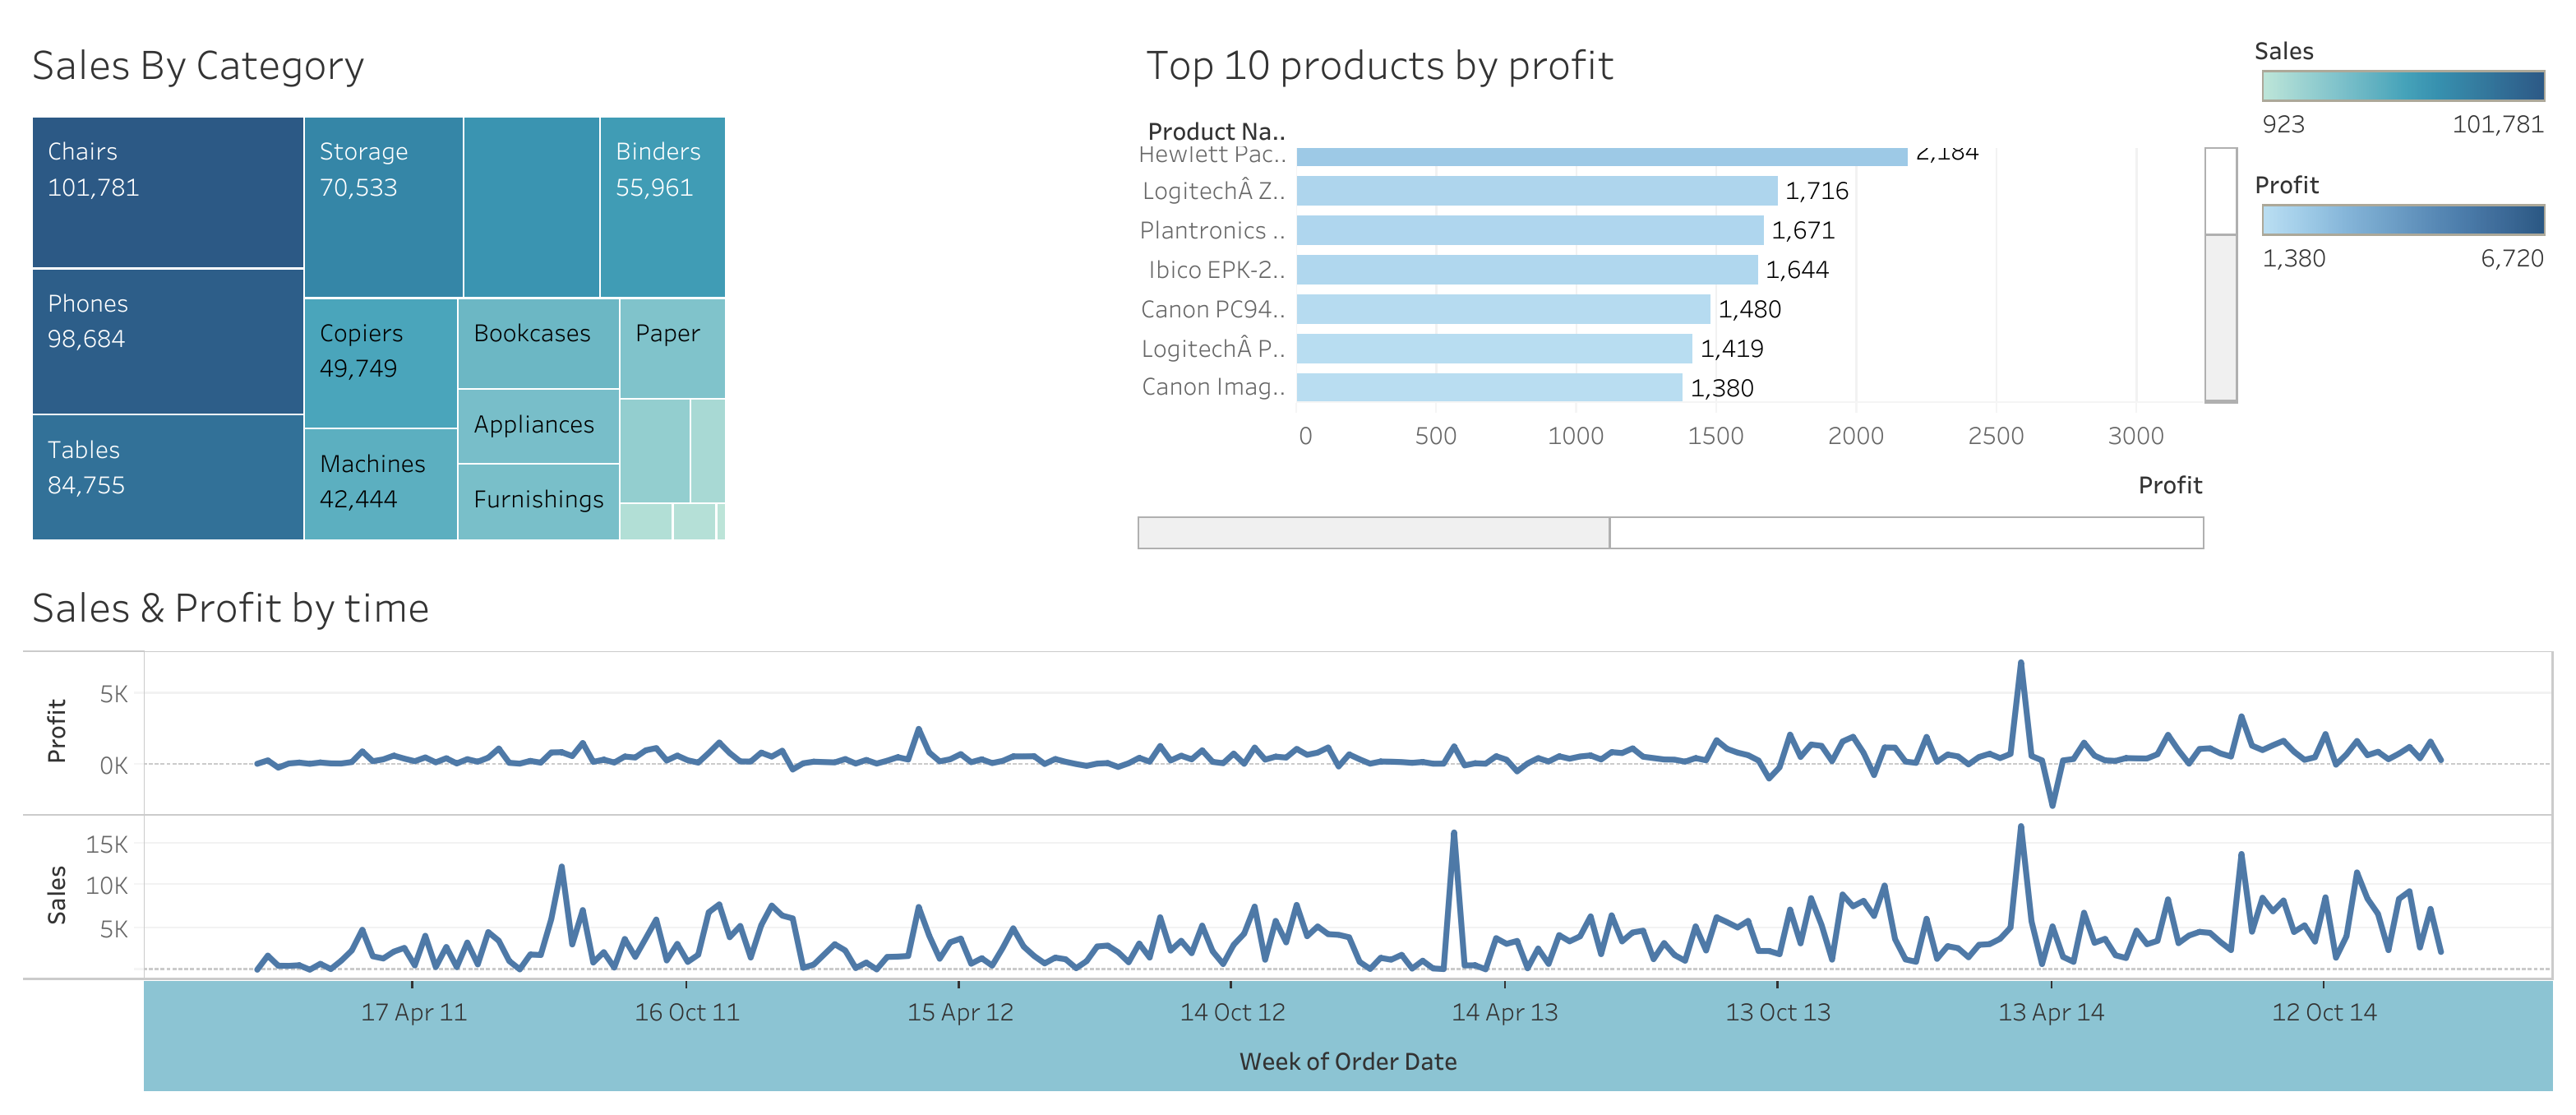

The page's visual inventory and layout, read from the dashboard file:
{"tool":"tableau","page":{"name":"Dashboard 1","canvas":[1000,1000],"units":"permille","ordinal":0},"visuals":[{"type":"worksheet","title":"Sheet 1","mark":"Automatic","box":[5.8,10.3,435.9,489.7]},{"type":"worksheet","title":"Sheet 2","mark":"Automatic","rows":["Product Name"],"cols":["Profit"],"box":[441.7,10.3,435.9,489.7]},{"type":"legend","title":"Sheet 1","param":"[federated.0zu964k1h8zjxj14tg2dm07q9gvb].[sum:Sales:qk]","box":[877.6,10.3,116.6,84.1]},{"type":"legend","title":"Sheet 2","param":"[federated.0zu964k1h8zjxj14tg2dm07q9gvb].[sum:Profit:qk]","box":[877.6,94.4,116.6,84.1]},{"type":"worksheet","title":"Sheet 3","mark":"Automatic","rows":["Profit","Sales"],"cols":["Order Date"],"box":[5.8,500,988.3,489.7]}]}

Visuals, with their boxes on the dashboard's canvas, which has no fixed pixel size, in thousandths of its width and height (x1, y1, x2, y2). These are canvas units, not pixel positions in the 2576x1115 screenshot, which may show the page scaled, cropped or inside an application window:
"Sheet 1" worksheet: 6, 10, 442, 500
"Sheet 2" worksheet: 442, 10, 878, 500
"Sheet 1" legend: 878, 10, 994, 94
"Sheet 2" legend: 878, 94, 994, 178
"Sheet 3" worksheet: 6, 500, 994, 990
